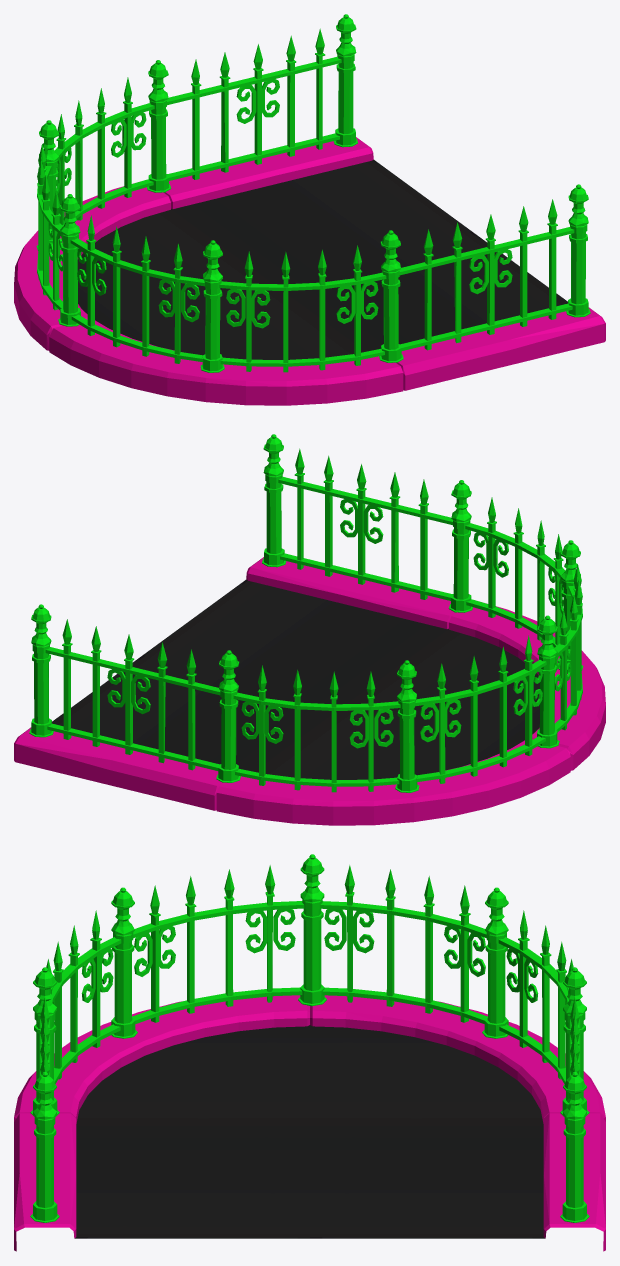
File: City_Fence07.fbx
The picture shows the model from 3 angles, top to bottom: view 1: azimuth 30°, elevation 25°; view 2: azimuth 150°, elevation 25°; view 3: azimuth 270°, elevation 25°; orthographic projection. The views are drawn at different scales.
Parts seen in each view (by area): view 1: SM_City_Fence_04_Divider_01d.mo; view 2: SM_City_Fence_04_Divider_01d.mo; view 3: SM_City_Fence_04_Divider_01d.mo.
Part boxes in pixels (bbox=[...]): SM_City_Fence_04_Divider_01d.mo: bbox=[14, 14, 605, 405]; SM_City_Fence_04_Divider_01d.mo: bbox=[14, 434, 605, 825]; SM_City_Fence_04_Divider_01d.mo: bbox=[14, 854, 605, 1251].
Size of the model in its own units: 336 by 113 by 352.
